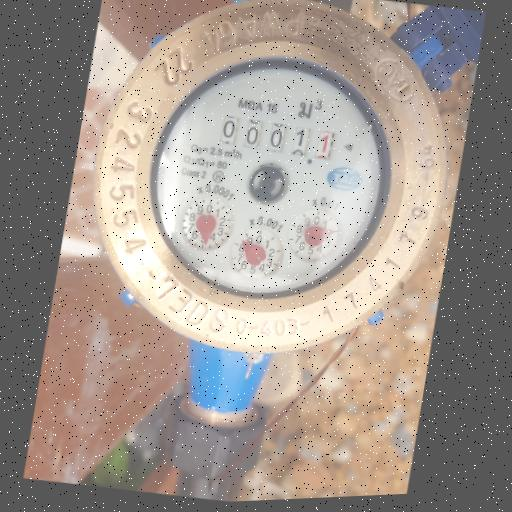0: (217, 114, 240, 146), (242, 117, 265, 149), (266, 121, 288, 152)
1: (290, 126, 310, 157), (315, 129, 335, 160)
border_water_meter_number: (214, 105, 342, 171)
